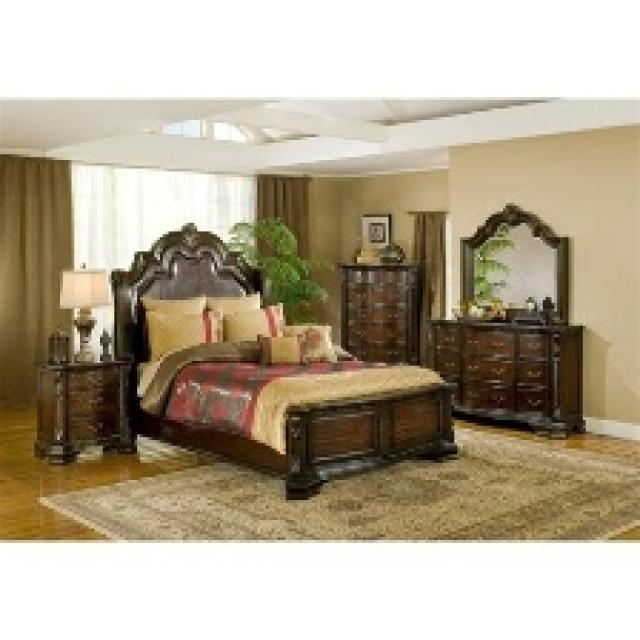Bed: (109, 220, 457, 500)
